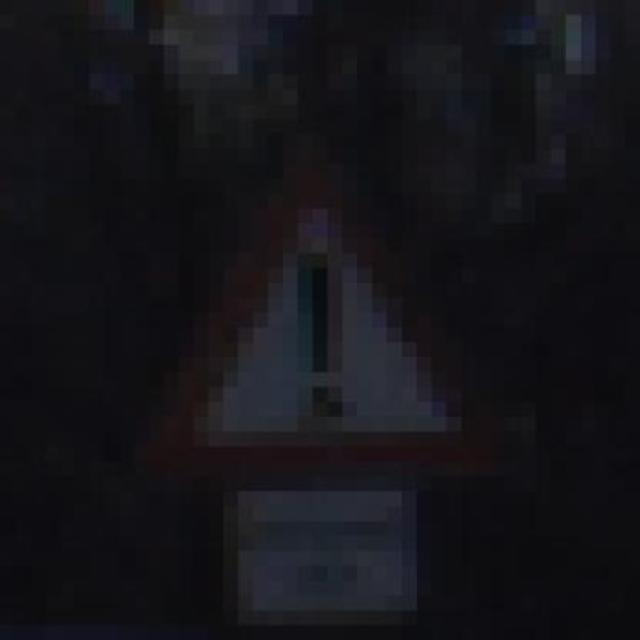Attention Please-: (74, 134, 520, 506)
